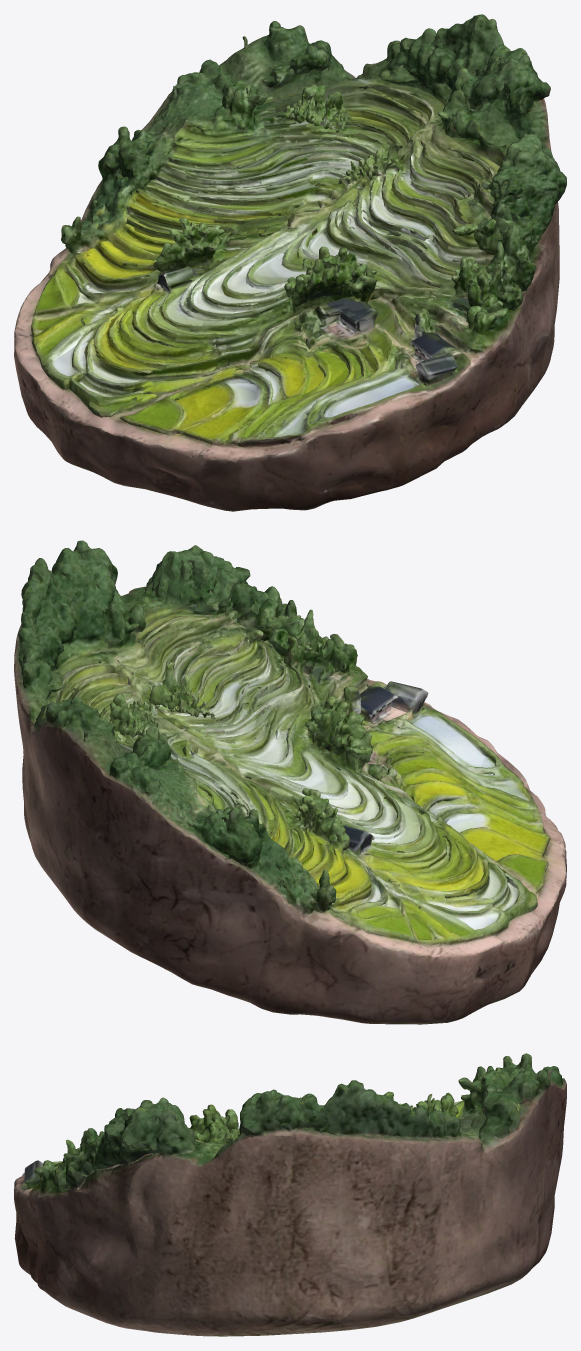
Rendered from yunhe.min.glb.
The picture shows the model from 3 angles, top to bottom: view 1: azimuth 30°, elevation 25°; view 2: azimuth 150°, elevation 25°; view 3: azimuth 270°, elevation 25°; orthographic projection. The views are drawn at different scales.
Parts seen in each view (by area): view 1: geometry_0; view 2: geometry_0; view 3: geometry_0.
Part boxes in pixels (x1=…): geometry_0: x1=14, y1=14, x2=566, y2=511; geometry_0: x1=14, y1=540, x2=566, y2=1024; geometry_0: x1=14, y1=1053, x2=566, y2=1336.
Size of the model in its own units: 0.3498 by 0.2374 by 0.3499.
Materials: 1 (1 with a texture image).
